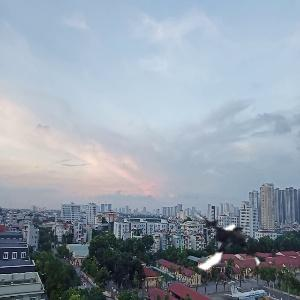drone: (178, 203, 264, 289)
